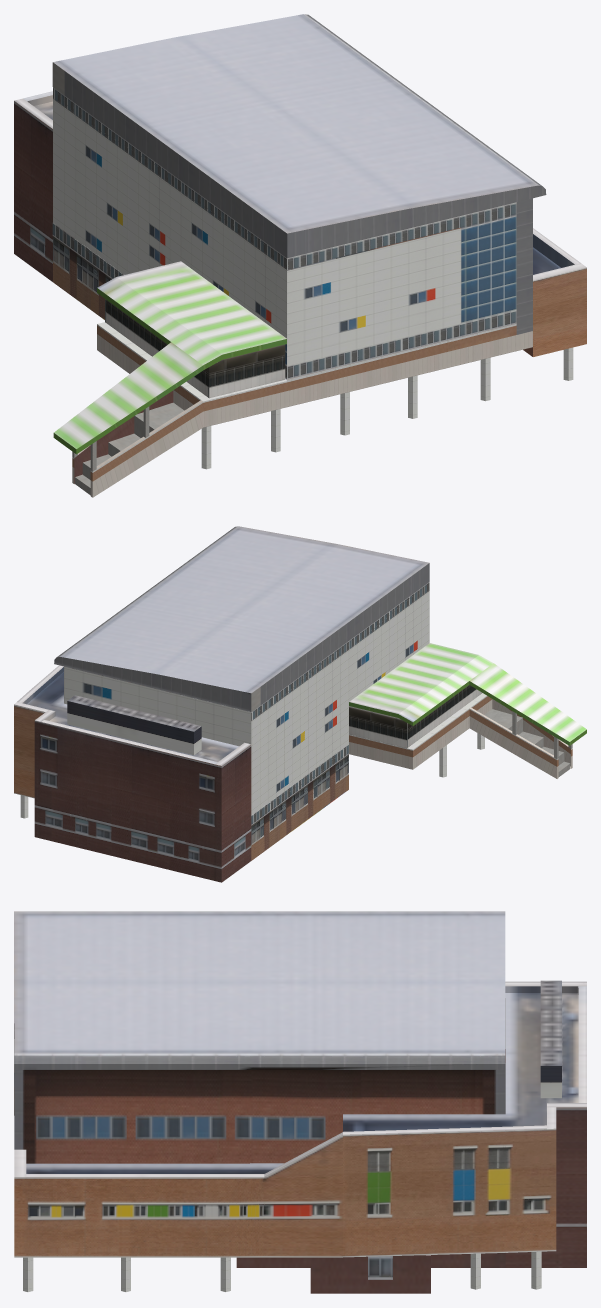
3 views of the same model, one above another, from view 1: azimuth 30°, elevation 25°; view 2: azimuth 150°, elevation 25°; view 3: azimuth 270°, elevation 25° (orthographic). The views are drawn at different scales.
Visible parts, largest first — view 1: MainBuilding; view 2: MainBuilding; view 3: MainBuilding.
Part boxes in pixels (box(x1,y1,x2,y2)): MainBuilding: box(14, 14, 586, 497); MainBuilding: box(14, 526, 586, 882); MainBuilding: box(14, 911, 586, 1293).
Size of the model in its own units: 4.16 by 1.72 by 3.87.
1 material, 1 textured.
